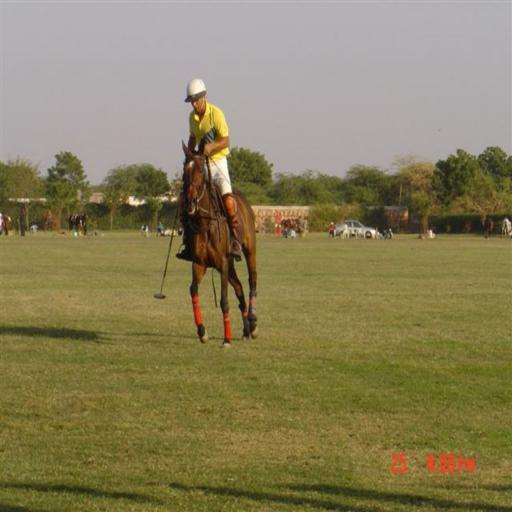horse: (179, 138, 257, 348)
